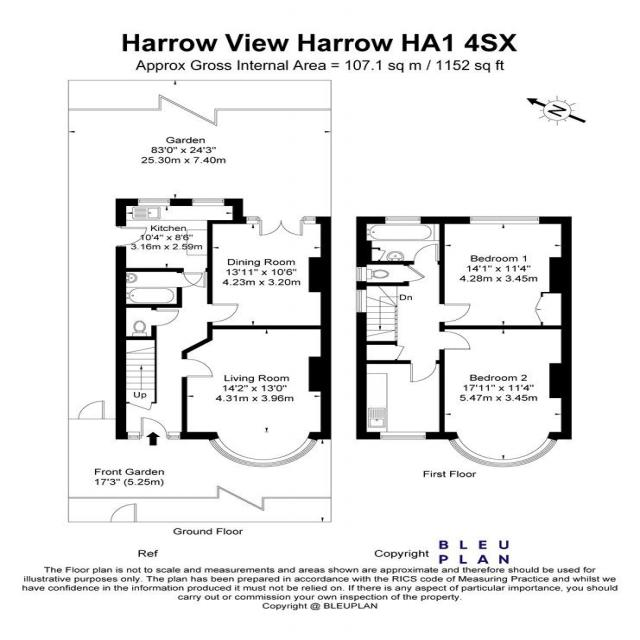DOOR: (116, 225, 148, 248), (139, 416, 168, 440), (439, 330, 472, 350), (439, 303, 472, 323), (181, 358, 214, 378), (409, 360, 437, 383), (207, 303, 239, 323), (413, 243, 439, 265), (182, 267, 207, 288), (151, 309, 180, 327), (403, 265, 428, 282)
DOUBLE DOOR: (258, 216, 304, 237)
ROOM: (180, 325, 332, 468), (438, 325, 573, 468), (438, 216, 572, 330), (207, 216, 332, 330), (115, 197, 244, 288), (355, 360, 445, 440)
WINDOW: (207, 436, 320, 468), (447, 436, 559, 468), (469, 216, 541, 225), (379, 431, 427, 440), (384, 216, 422, 225), (355, 289, 368, 313), (191, 198, 225, 207), (137, 198, 171, 206), (355, 266, 368, 282)
